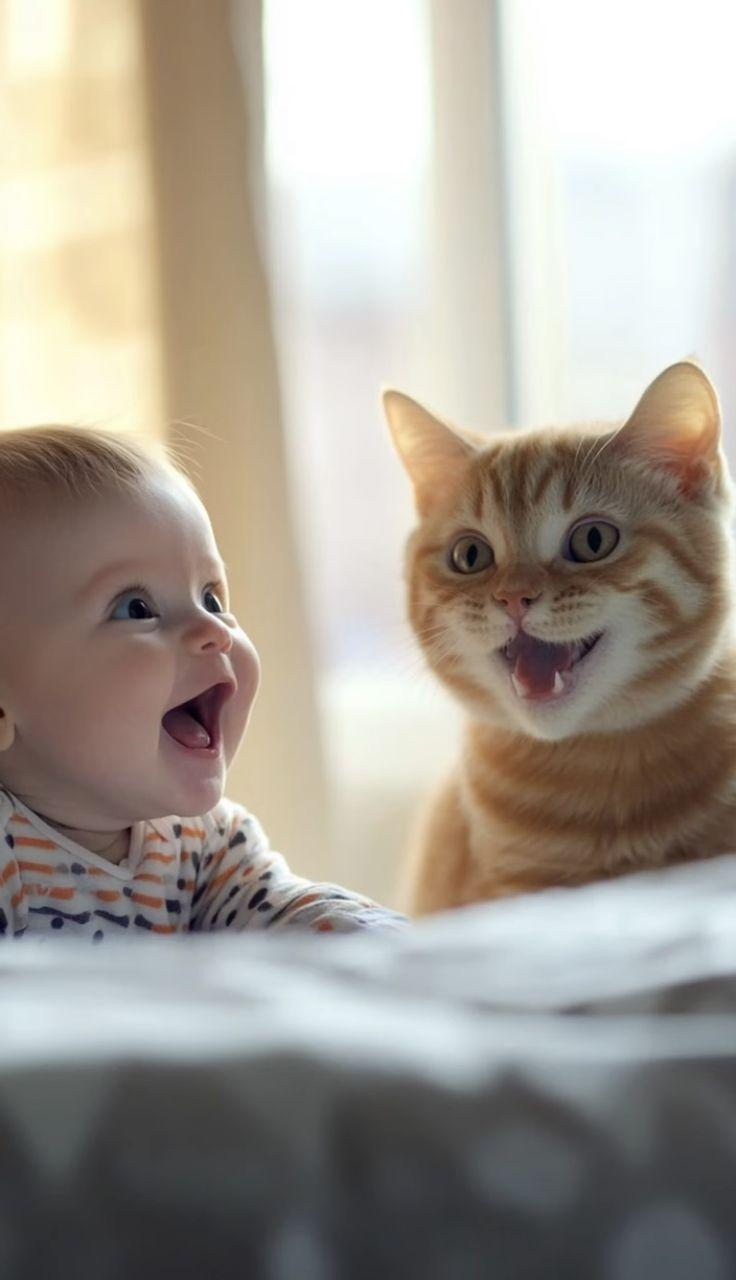kedo: (382, 354, 732, 918)
